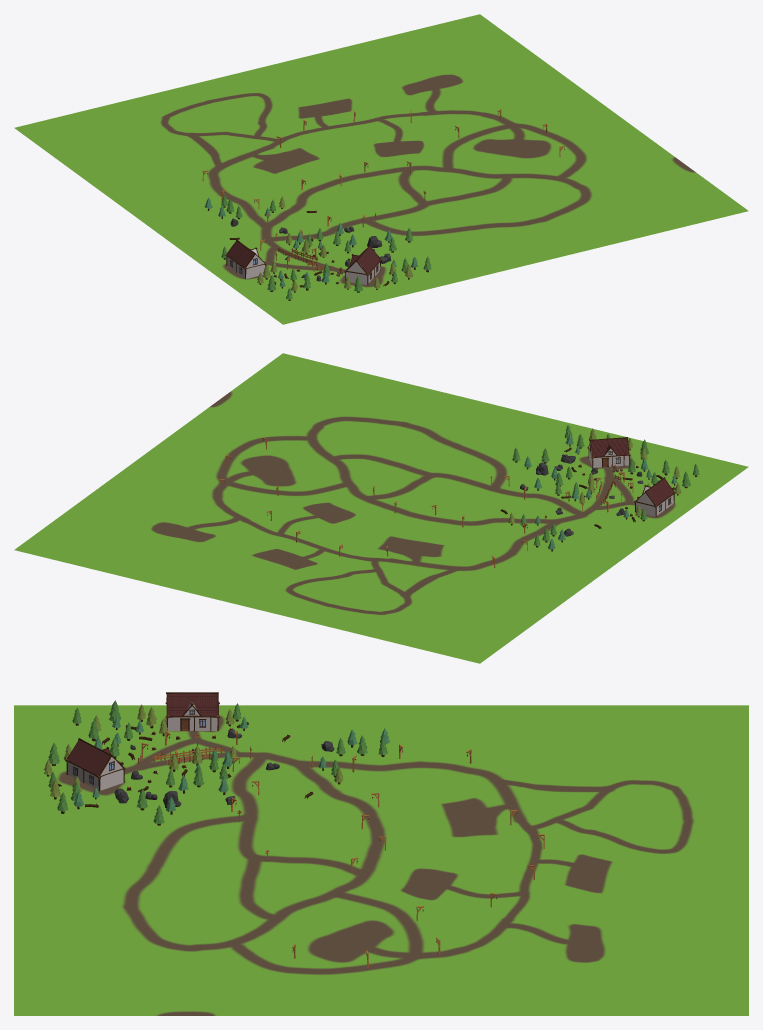
File: test_local.fbx
3 views of the same model, one above another, from view 1: azimuth 30°, elevation 25°; view 2: azimuth 150°, elevation 25°; view 3: azimuth 270°, elevation 25° (orthographic). The views are drawn at different scales.
Parts seen in each view (by area): view 1: Plane; view 2: Plane, Cube.002; view 3: Plane, Cube.002, Cube.007, wald2.001.
Part boxes in pixels (x1,y1,x2,y2): Plane: (14,14,748,324); Plane: (14,353,748,663); Cube.002: (589,438,628,456); Plane: (14,705,748,1015); Cube.002: (68,740,122,775); Cube.007: (167,693,217,716); wald2.001: (168,717,217,730).
Size of the model in its own units: 70886 by 3667 by 70886.
